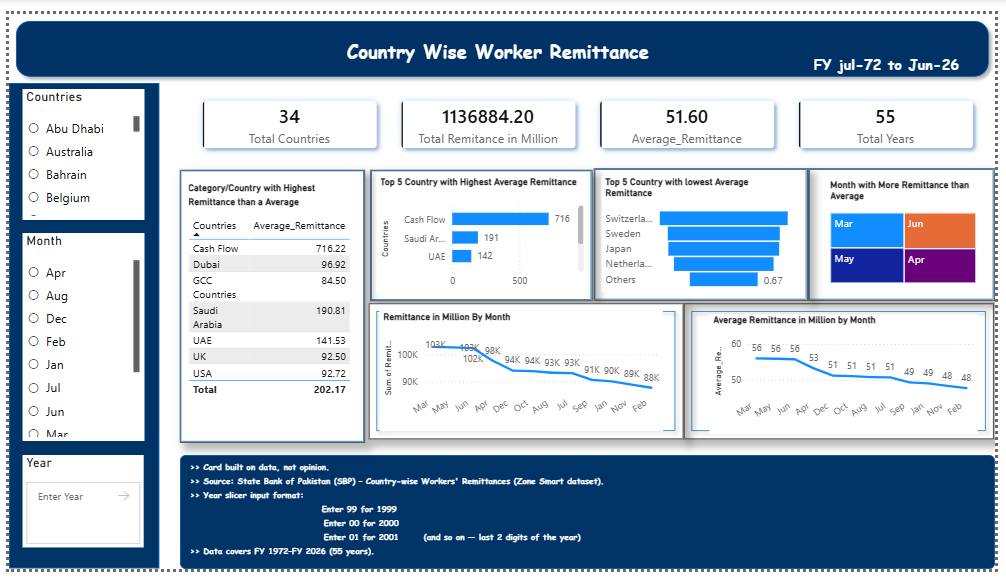

What the dashboard file says about the page in this screenshot:
{"tool":"powerbi","page":{"name":"Page 1","canvas":[1280,720],"ordinal":0},"visuals":[{"type":"shape","box":[876,376,402,176],"z":0},{"type":"shape","box":[222,572,1058,148],"z":1000},{"type":"cardVisual","fields":{"Data":["public worker_remitance.Total Countries","public worker_remitance.Total Remitance","public worker_remitance.Average_Remittance","public worker_remitance.Total Years"]},"box":[221.1,83.2,1058.3,119.1],"z":2000},{"type":"shape","box":[222,202,240,354],"z":3000},{"type":"shape","box":[758.6,201.4,277.1,171.4],"z":4000},{"type":"shape","box":[470,202,288,170],"z":5000},{"type":"shape","box":[467.3,376,408,176],"z":6000},{"type":"shape","box":[0,0,1280.8,90.4],"z":7000},{"type":"textbox","box":[0,26,1280,72],"z":8000},{"type":"textbox","box":[1040.4,46.2,240.4,44.2],"z":9000},{"type":"lineChart","title":"Remittance in Million By Month","fields":{"Category":["public worker_remitance.Month"],"Y":["Sum(public worker_remitance.Remitance in USD)"]},"box":[481.3,386,368,156],"z":10000},{"type":"lineChart","title":"Average Remittance in Million by Month","fields":{"Category":["public worker_remitance.Month"],"Y":["public worker_remitance.Average_Remittance"]},"box":[909.3,388.7,348,156],"z":11000},{"type":"barChart","title":"Top 5 Country with Highest Average Remittance","fields":{"Category":["public worker_remitance.Countries"],"Y":["public worker_remitance.Average_Remittance"]},"box":[478,210,274,154],"z":12000},{"type":"funnel","title":"Top 5 Country with lowest Average Remittance","fields":{"Category":["public worker_remitance.Countries"],"Y":["public worker_remitance.Average_Remittance"]},"box":[768.6,210,251.4,150],"z":13000},{"type":"tableEx","fields":{"Values":["public worker_remitance.Countries","public worker_remitance.Average_Remittance"]},"box":[228.8,258.8,220.9,262.7],"z":14000},{"type":"shape","box":[1038.8,201.2,241.4,171.4],"z":15000},{"type":"treemap","title":"Month with More Remittance than Average","fields":{"Group":["public worker_remitance.Month"],"Values":["public worker_remitance.Average_Remittance"]},"box":[1061.2,215,198.6,140],"z":16000},{"type":"textbox","box":[230,572,958,148],"z":17000},{"type":"shape","box":[0,90,195,630],"z":18000},{"type":"listSlicer","fields":{"Values":["public worker_remitance.Month"]},"box":[17.5,285,157.5,270],"z":19000},{"type":"textSlicer","fields":{"Values":["public worker_remitance.Year"]},"box":[17.5,572.5,157.5,120],"z":20000},{"type":"listSlicer","fields":{"Values":["public worker_remitance.Countries"]},"box":[17.5,97.5,157.5,170],"z":21000},{"type":"textbox","box":[228.8,210,228.8,48.8],"z":21001}]}

Visuals, with their boxes in screenshot pixels (x1, y1, x2, y2), scaled from the page's 1280x720 canvas onto the 1006x579 screenshot:
shape: (left=688, top=302, right=1004, bottom=444)
shape: (left=174, top=460, right=1005, bottom=578)
cardVisual - public worker_remitance.Total Countries x public worker_remitance.Total Remitance: (left=174, top=67, right=1005, bottom=163)
shape: (left=174, top=162, right=363, bottom=447)
shape: (left=596, top=162, right=814, bottom=300)
shape: (left=369, top=162, right=596, bottom=299)
shape: (left=367, top=302, right=688, bottom=444)
shape: (left=0, top=0, right=1005, bottom=73)
textbox: (left=0, top=21, right=1005, bottom=79)
textbox: (left=818, top=37, right=1005, bottom=73)
"Remittance in Million By Month" lineChart: (left=378, top=310, right=667, bottom=436)
"Average Remittance in Million by Month" lineChart: (left=715, top=313, right=988, bottom=438)
"Top 5 Country with Highest Average Remittance" barChart: (left=376, top=169, right=591, bottom=293)
"Top 5 Country with lowest Average Remittance" funnel: (left=604, top=169, right=802, bottom=290)
tableEx - public worker_remitance.Countries x public worker_remitance.Average_Remittance: (left=180, top=208, right=353, bottom=419)
shape: (left=816, top=162, right=1005, bottom=300)
"Month with More Remittance than Average" treemap: (left=834, top=173, right=990, bottom=285)
textbox: (left=181, top=460, right=934, bottom=578)
shape: (left=0, top=72, right=153, bottom=578)
listSlicer - public worker_remitance.Month: (left=14, top=229, right=138, bottom=446)
textSlicer - public worker_remitance.Year: (left=14, top=460, right=138, bottom=557)
listSlicer - public worker_remitance.Countries: (left=14, top=78, right=138, bottom=215)
textbox: (left=180, top=169, right=360, bottom=208)
